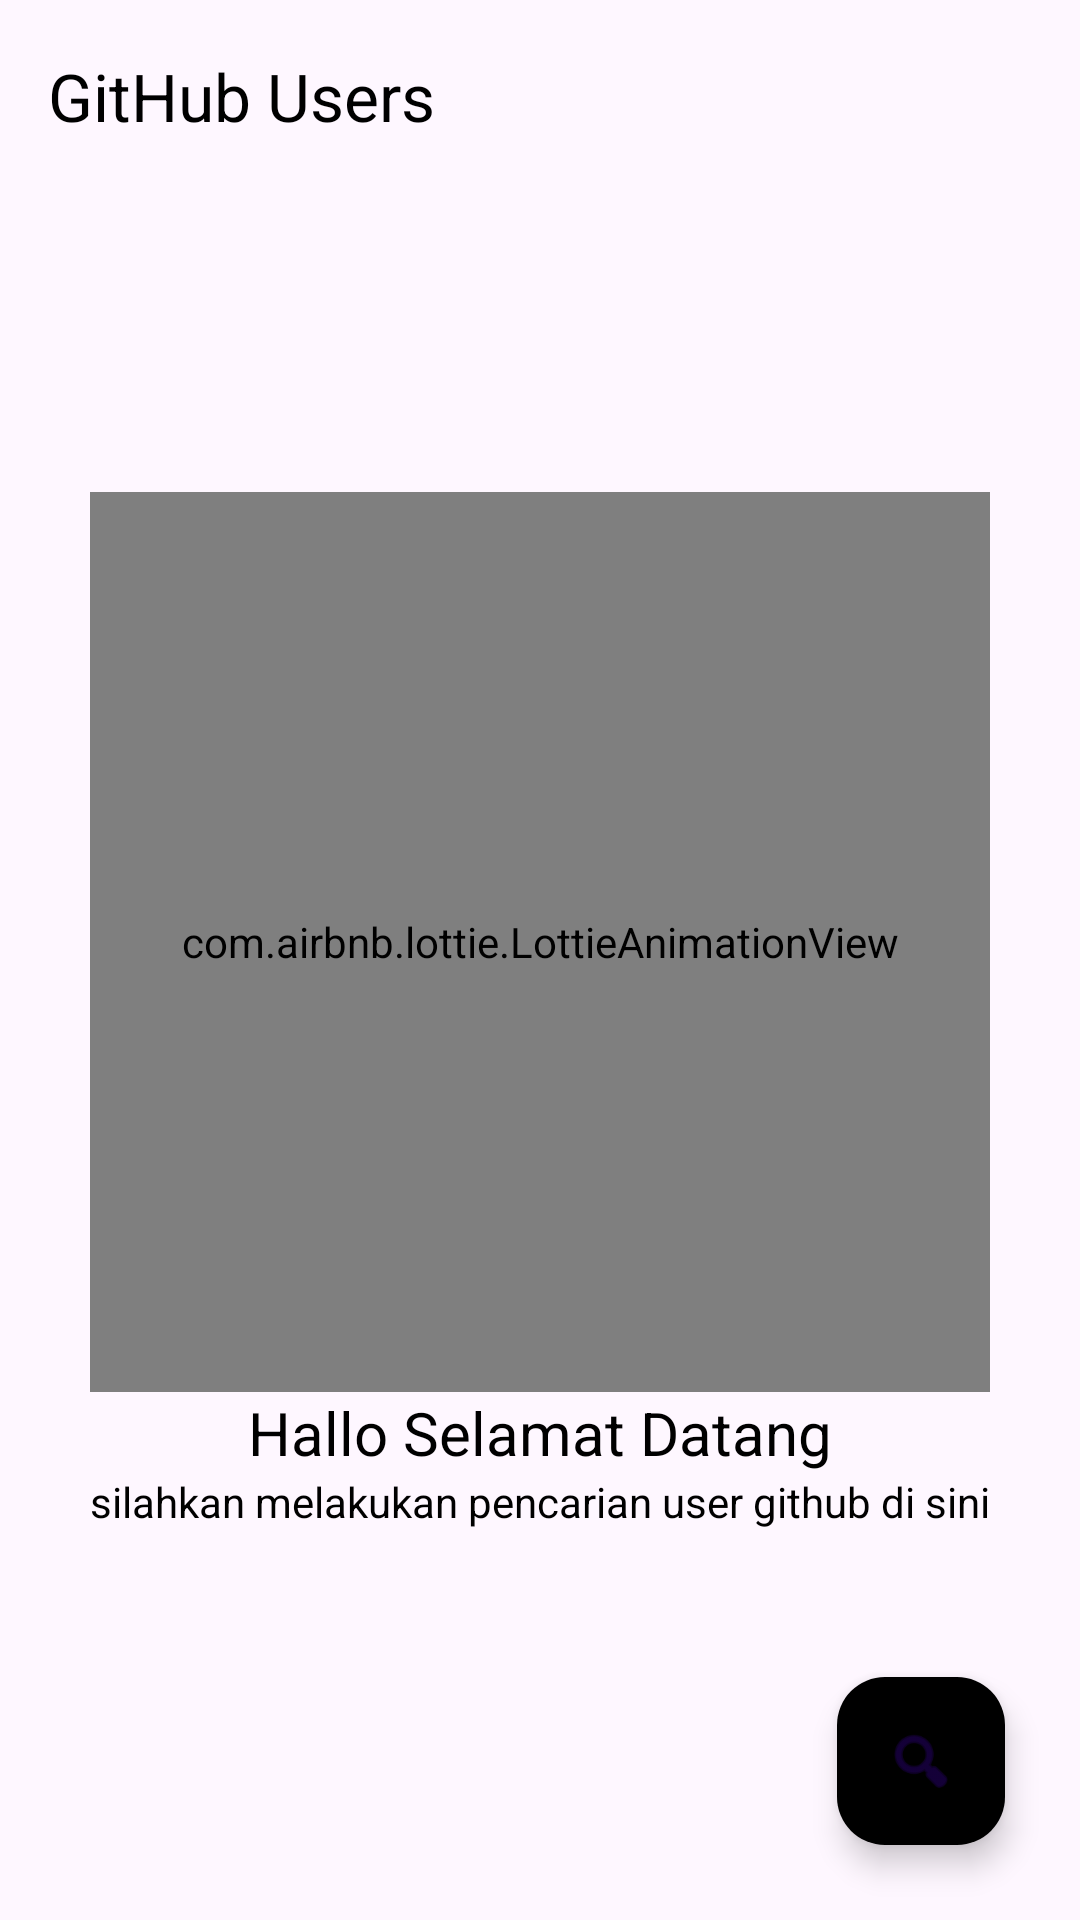

Screen size 1080x1920. Icon name, then its center in pixels as (x=x, y=y):
seach button: (x=921, y=1761)
